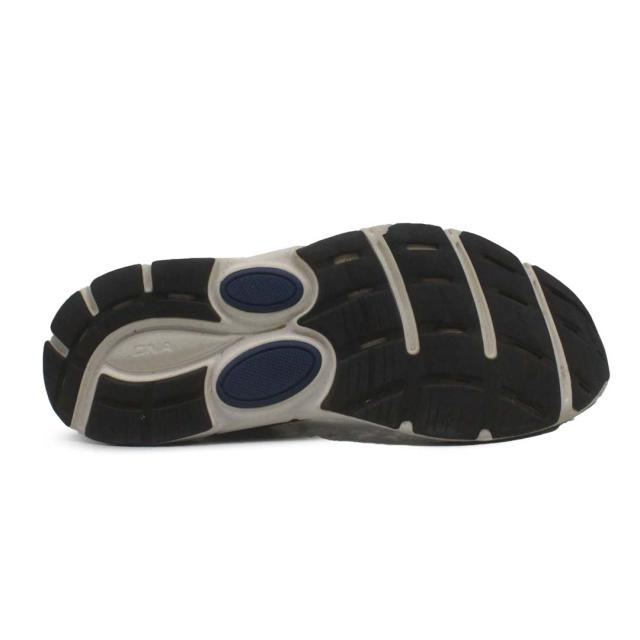outersole: (42, 222, 610, 444)
